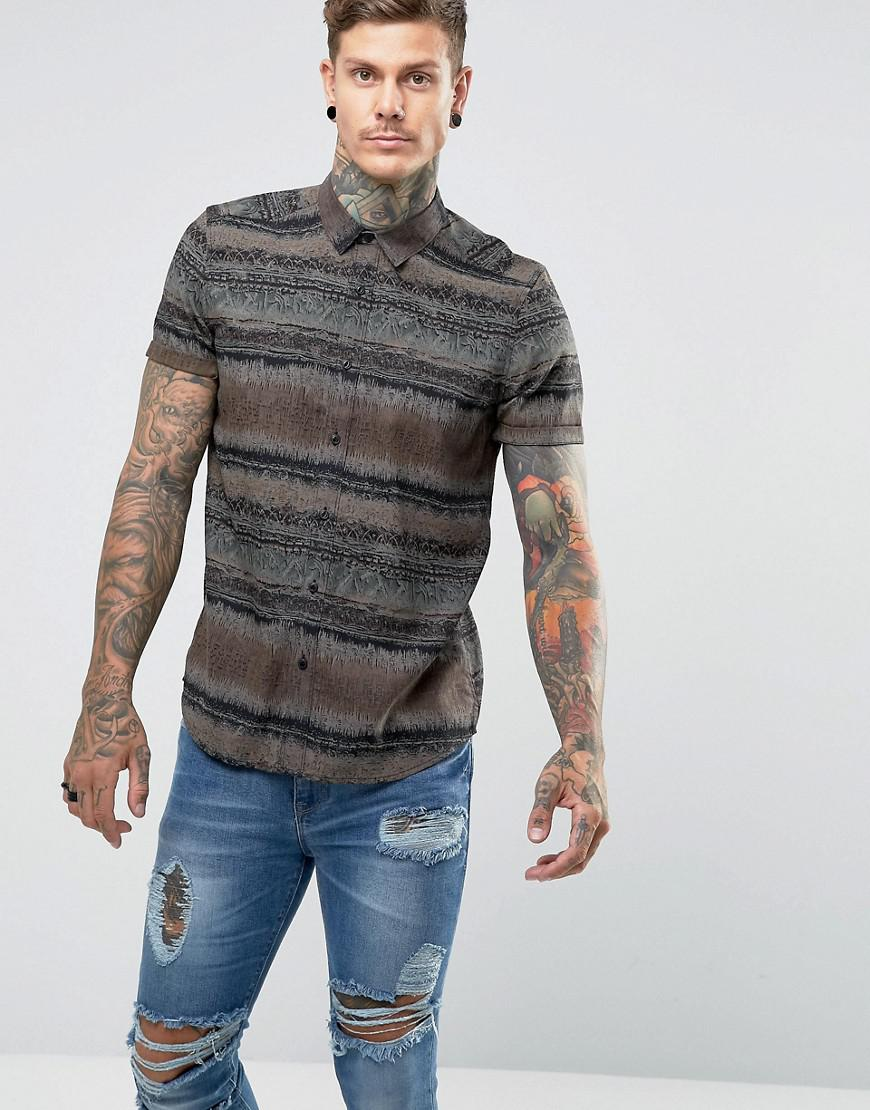teeshirt: (120, 178, 607, 825)
